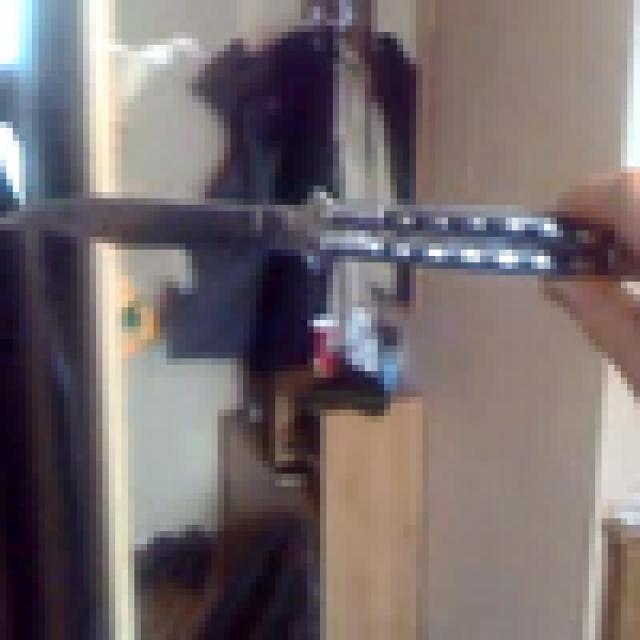Weapons: (0, 184, 634, 283)
